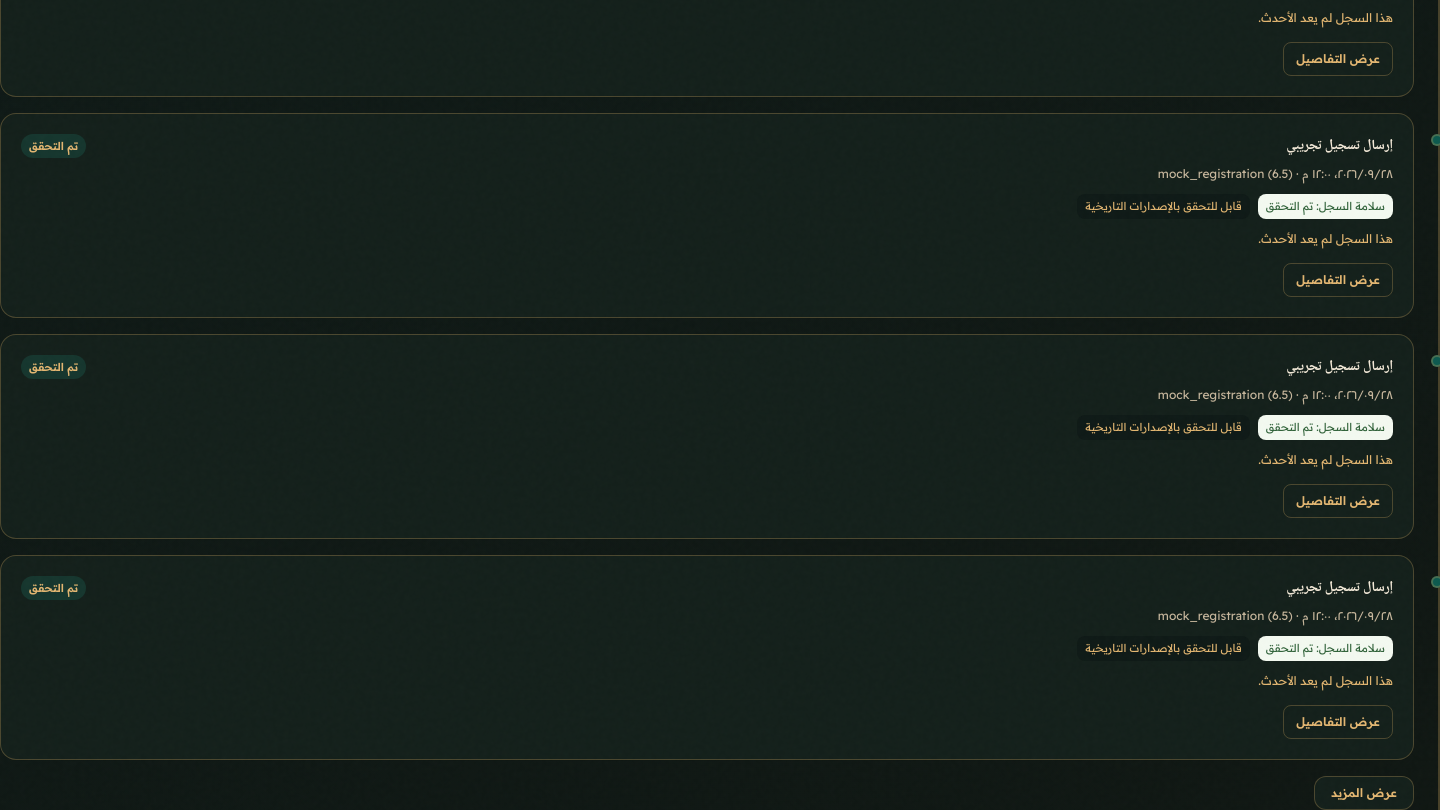
it: student Decision History › requests the next bounded page using the last stable tuple
The width and height of the screenshot is (1440, 810).
(page scrolled)
Click the button "عرض المزيد".
click(1364, 792)  # box [1314, 776, 1414, 809]
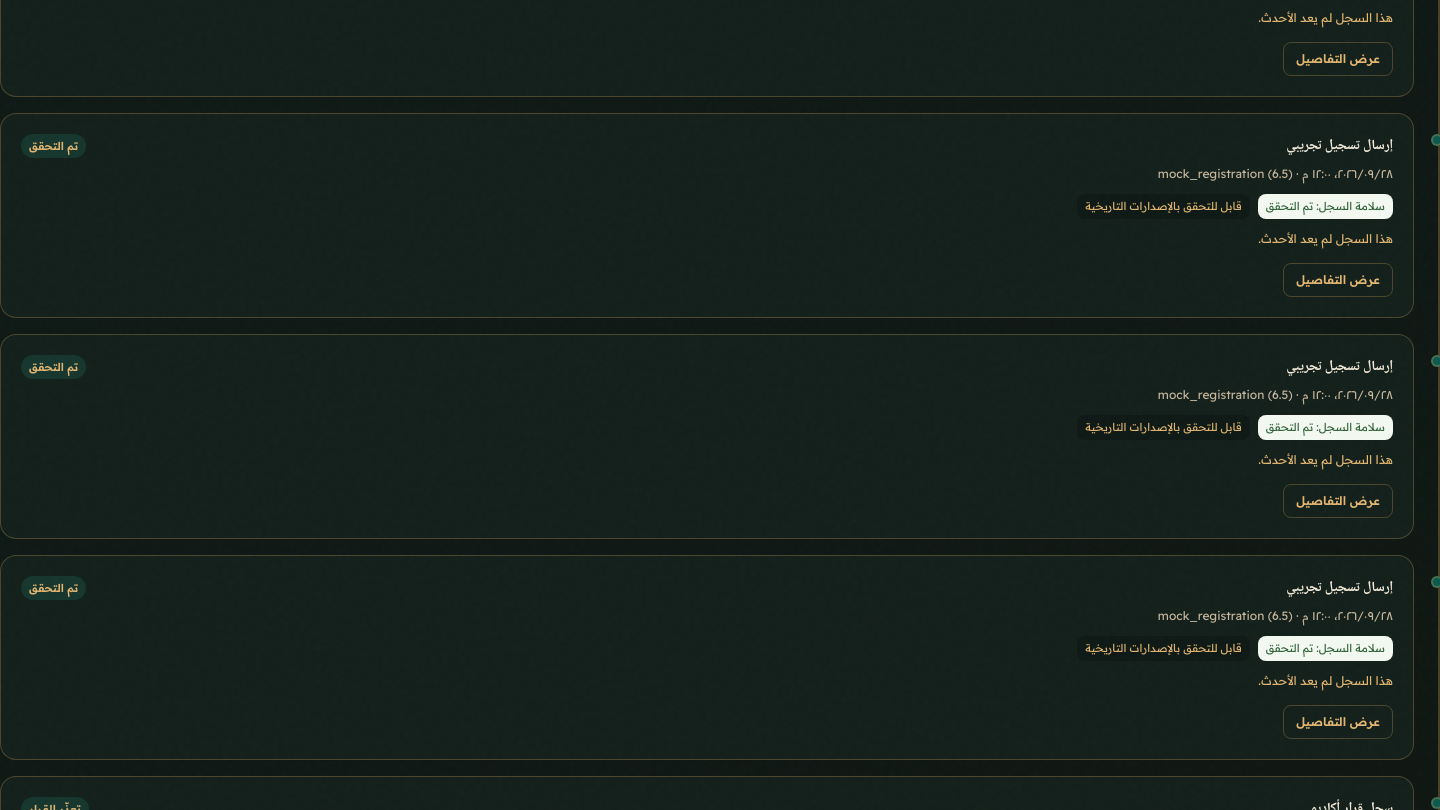
Expected: the button "عرض المزيد" is gone
